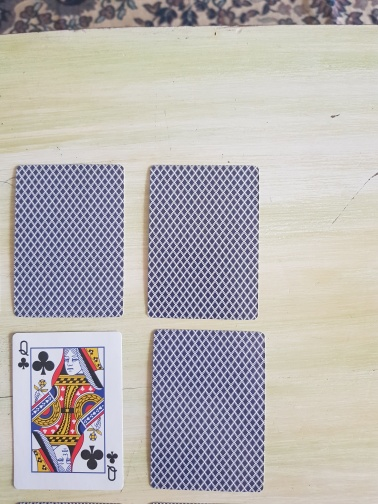queen: (11, 332, 125, 491)
